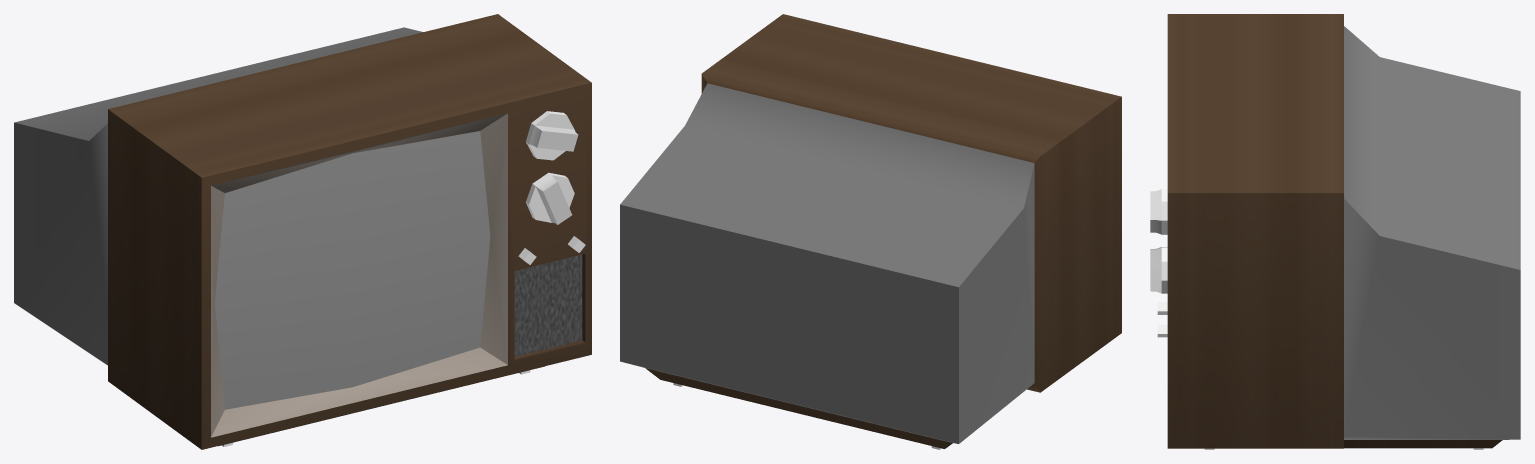
3 views of the same model, side by side, from view 1: azimuth 30°, elevation 25°; view 2: azimuth 150°, elevation 25°; view 3: azimuth 270°, elevation 25° (orthographic). The views are drawn at different scales.
Visible parts, largest first — view 1: TV_GEO; view 2: TV_GEO; view 3: TV_GEO.
Boxes of the visible parts, x1=… form: TV_GEO: x1=14, y1=14, x2=591, y2=449; TV_GEO: x1=620, y1=14, x2=1121, y2=449; TV_GEO: x1=1150, y1=14, x2=1520, y2=449.
Size of the model in its own units: 60 by 43.2 by 52.45.
